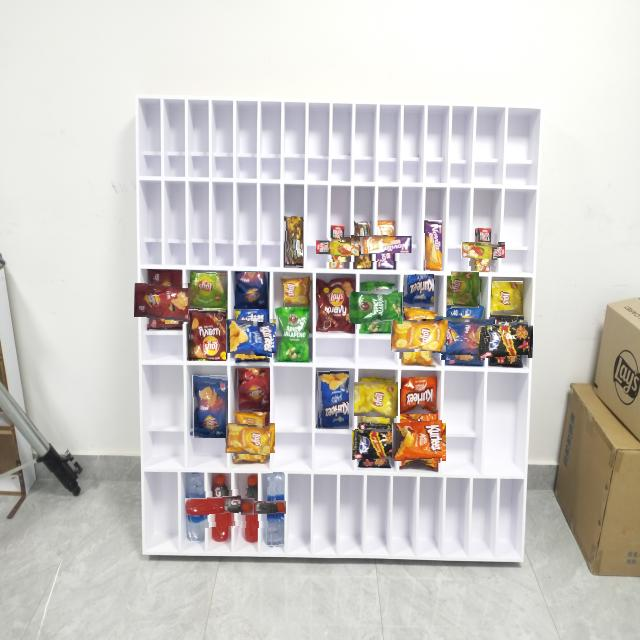Plastic: (440, 311, 489, 360), (191, 374, 228, 438), (141, 275, 188, 324), (316, 276, 355, 333), (396, 419, 442, 466), (397, 314, 443, 359), (188, 308, 226, 361), (316, 370, 349, 429), (230, 315, 274, 358), (355, 286, 398, 329), (198, 486, 241, 528), (276, 307, 309, 361), (486, 320, 528, 362), (231, 487, 272, 528), (230, 418, 270, 459), (356, 380, 396, 419), (236, 368, 270, 412), (355, 426, 394, 464), (190, 271, 227, 308), (400, 377, 436, 414), (266, 472, 284, 546), (234, 272, 268, 309), (346, 228, 381, 262), (187, 473, 204, 542), (369, 227, 403, 261), (448, 273, 481, 306), (491, 282, 523, 314), (403, 274, 434, 307), (284, 216, 303, 268), (423, 220, 442, 272), (468, 235, 498, 266), (282, 277, 311, 307), (323, 232, 351, 262)
